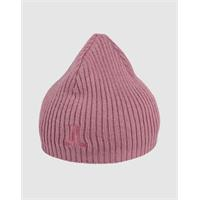hat: (40, 34, 158, 163)
